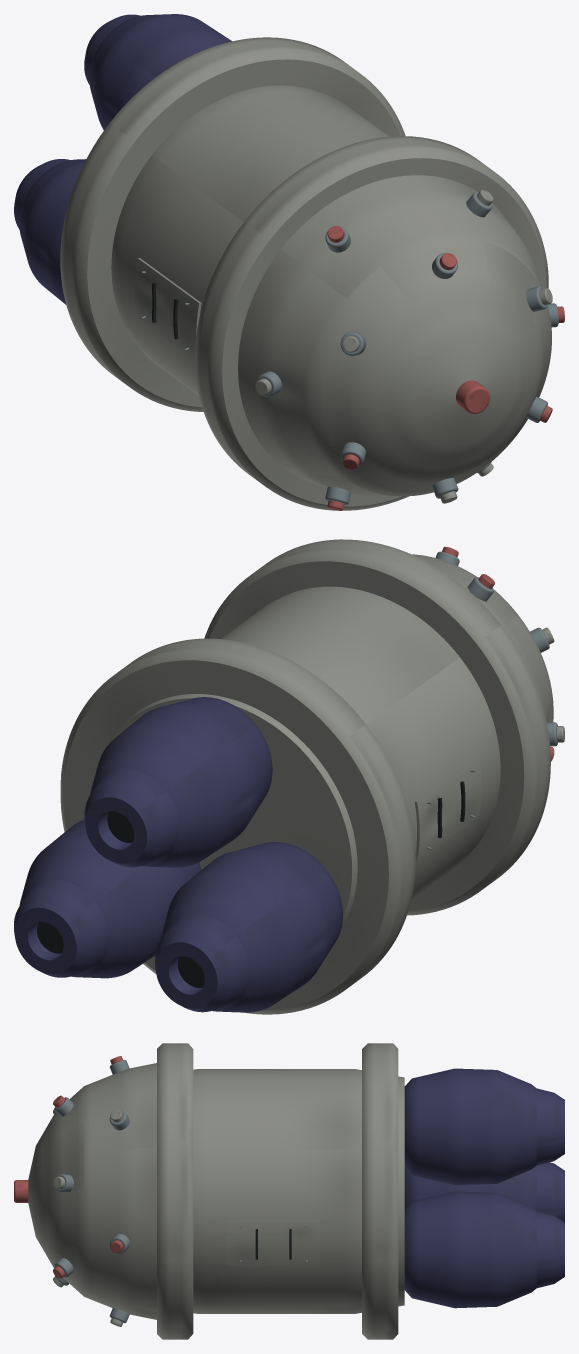
3 renders of one model, top to bottom at view 1: azimuth 30°, elevation 25°; view 2: azimuth 150°, elevation 25°; view 3: azimuth 270°, elevation 25°, orthographic. The views are drawn at different scales.
Parts seen in each view (by area): view 1: Static Inducer studded dome, Static Inducer central shell, Static Inducer collar 1, Static Inducer collar 0, Static Inducer blue terminal 0, Static Inducer blue terminal 1, Static Inducer service cover 0, Static Inducer axial red terminal, Static Inducer recessed rim 1, Static Inducer recessed rim 0; view 2: Static Inducer central shell, Static Inducer collar 1, Static Inducer collar 0, Static Inducer blue terminal 0, Static Inducer blue terminal 1, Static Inducer blue terminal 2, Static Inducer recessed rim 1, Static Inducer recessed rim 0, Static Inducer recessed rim 2, Static Inducer service cover 0, Static Inducer studded dome, Static Inducer recess floor 2 (+2 smaller); view 3: Static Inducer central shell, Static Inducer studded dome, Static Inducer blue terminal 0, Static Inducer blue terminal 2, Static Inducer collar 1, Static Inducer collar 0, Static Inducer service cover 1, Static Inducer blue terminal 1, Static Inducer recessed rim 2, Static Inducer recessed rim 0, Static Inducer recessed rim 1.
Part boxes in pixels (x1,y1,x2,y2): Static Inducer studded dome: [238, 175, 551, 496]; Static Inducer central shell: [111, 85, 388, 395]; Static Inducer collar 1: [60, 37, 405, 411]; Static Inducer collar 0: [195, 136, 548, 510]; Static Inducer blue terminal 0: [89, 14, 231, 129]; Static Inducer blue terminal 1: [19, 159, 86, 304]; Static Inducer service cover 0: [135, 258, 201, 358]; Static Inducer axial red terminal: [456, 380, 489, 413]; Static Inducer recessed rim 1: [14, 159, 70, 229]; Static Inducer recessed rim 0: [84, 14, 140, 84]; Static Inducer central shell: [107, 586, 500, 929]; Static Inducer collar 1: [60, 638, 415, 1014]; Static Inducer collar 0: [204, 539, 550, 915]; Static Inducer blue terminal 0: [90, 697, 272, 867]; Static Inducer blue terminal 1: [160, 842, 342, 1012]; Static Inducer blue terminal 2: [19, 819, 200, 978]; Static Inducer recessed rim 1: [155, 914, 249, 1012]; Static Inducer recessed rim 0: [84, 769, 178, 867]; Static Inducer recessed rim 2: [14, 880, 108, 977]; Static Inducer service cover 0: [414, 756, 481, 860]; Static Inducer studded dome: [412, 554, 553, 722]; Static Inducer recess floor 2: [37, 921, 63, 953]; Static Inducer central shell: [193, 1069, 404, 1313]; Static Inducer studded dome: [28, 1063, 156, 1319]; Static Inducer blue terminal 0: [404, 1068, 536, 1185]; Static Inducer blue terminal 2: [404, 1191, 536, 1308]; Static Inducer collar 1: [362, 1043, 398, 1339]; Static Inducer collar 0: [157, 1043, 193, 1339]; Static Inducer service cover 1: [226, 1220, 320, 1265]; Static Inducer blue terminal 1: [404, 1166, 536, 1210]; Static Inducer recessed rim 2: [536, 1211, 564, 1288]; Static Inducer recessed rim 0: [536, 1088, 564, 1165]; Static Inducer recessed rim 1: [536, 1162, 564, 1222].
Size of the model in its own units: 1.04 by 1.04 by 1.93.
5 materials, 3 textured.
